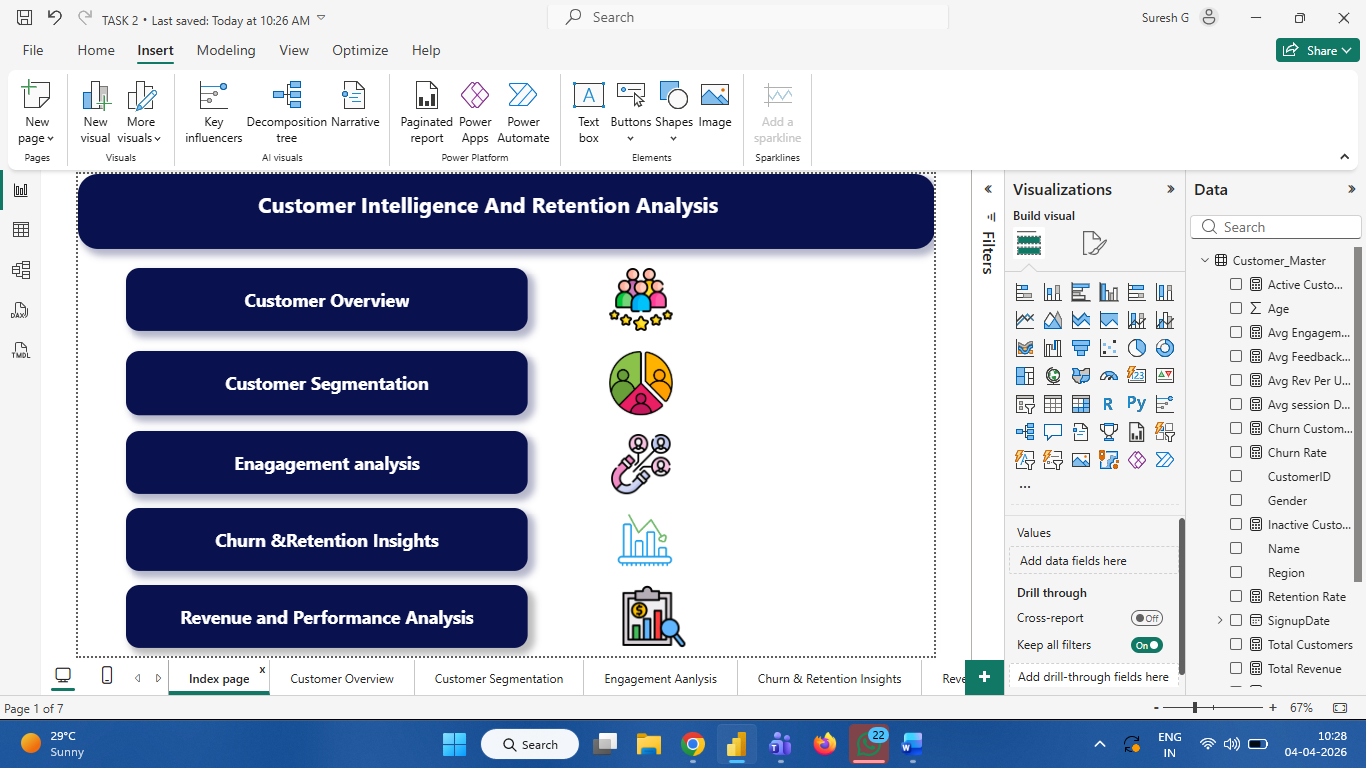

The dashboard page shown, as its layout file describes it:
{"tool":"powerbi","page":{"name":"Index page ","canvas":[1280,720],"ordinal":0},"visuals":[{"type":"textbox","box":[0,0,1280,111.7],"z":0},{"type":"actionButton","box":[71.7,140.4,600.5,94.1],"z":1000},{"type":"actionButton","box":[71.7,264.4,600.5,95.6],"z":2000},{"type":"actionButton","box":[71.7,383.9,600.5,94.1],"z":3000},{"type":"actionButton","box":[71.7,498.9,600.5,94.1],"z":4000},{"type":"actionButton","box":[71.7,613.9,600.5,94.1],"z":5000},{"type":"image","box":[878.3,140.4,221.1,94.1],"z":6000},{"type":"image","box":[878.3,264.4,221.1,95.6],"z":7000},{"type":"image","box":[902.2,386.9,173.3,89.6],"z":8000},{"type":"image","box":[914.2,497.4,185.2,95.6],"z":9000},{"type":"image","box":[900.7,613.9,212.1,94.1],"z":10000}]}

Visuals, with their boxes on the page's 1280x720 design canvas (x1, y1, x2, y2). These are canvas units, not pixel positions in the 1366x768 screenshot, which may show the page scaled, cropped or inside an application window:
textbox: x1=0, y1=0, x2=1280, y2=112
actionButton: x1=72, y1=140, x2=672, y2=234
actionButton: x1=72, y1=264, x2=672, y2=360
actionButton: x1=72, y1=384, x2=672, y2=478
actionButton: x1=72, y1=499, x2=672, y2=593
actionButton: x1=72, y1=614, x2=672, y2=708
image: x1=878, y1=140, x2=1099, y2=234
image: x1=878, y1=264, x2=1099, y2=360
image: x1=902, y1=387, x2=1076, y2=476
image: x1=914, y1=497, x2=1099, y2=593
image: x1=901, y1=614, x2=1113, y2=708
